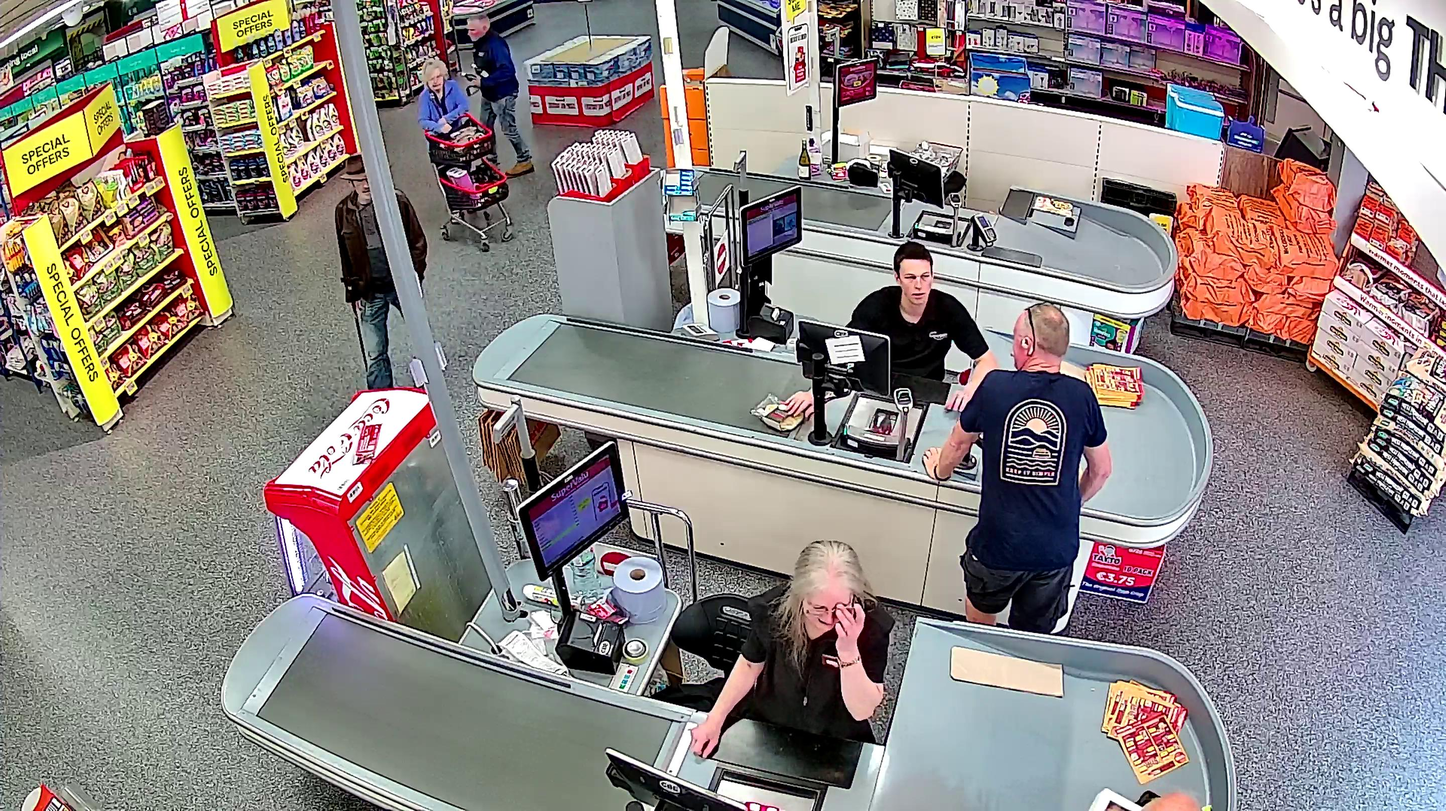filled-trolly: (424, 112, 514, 253)
occupied-checkout-counter: (518, 440, 921, 811), (738, 179, 1004, 493)
person: (418, 60, 469, 128)
person-with-filled-basket-trolly: (418, 59, 514, 252)
vacant-checkout-counter: (828, 53, 1031, 254)
